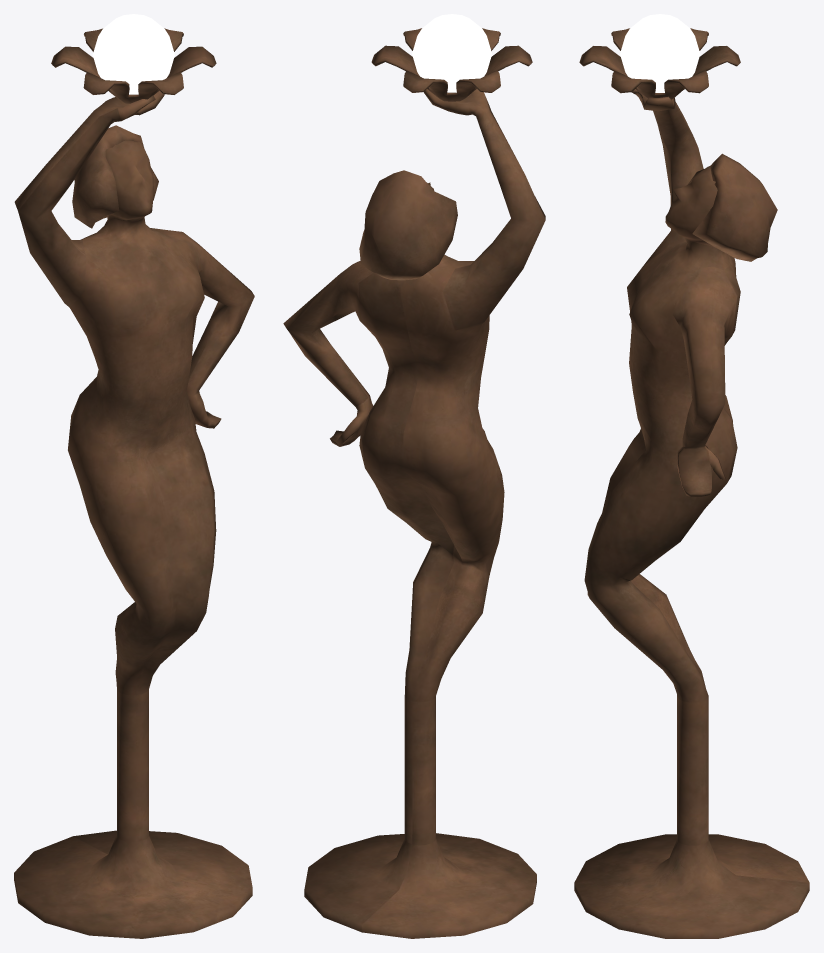
3 renders of one model, left to right at view 1: azimuth 30°, elevation 25°; view 2: azimuth 150°, elevation 25°; view 3: azimuth 270°, elevation 25°, orthographic. The views are drawn at different scales.
Parts seen in each view (by area): view 1: Lamp_Flower_lopo; view 2: Lamp_Flower_lopo; view 3: Lamp_Flower_lopo.
Part boxes in pixels (x1,y1,x2,y2): Lamp_Flower_lopo: (14, 14, 254, 938); Lamp_Flower_lopo: (283, 14, 545, 938); Lamp_Flower_lopo: (574, 14, 809, 938).
Bounding box in the file's own units: 59.36 × 200 × 49.35.
1 material, 1 textured.
